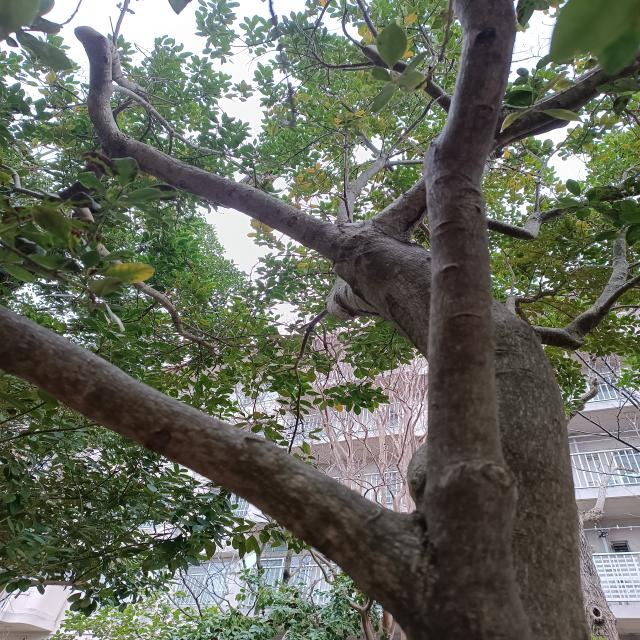Branch: (0, 304, 411, 617), (328, 217, 581, 571), (405, 0, 519, 566), (75, 27, 344, 253), (375, 44, 640, 242)
Twig: (534, 231, 632, 351), (344, 10, 451, 107), (113, 84, 224, 157), (12, 152, 115, 203), (487, 181, 542, 241), (542, 198, 607, 222), (508, 290, 554, 307)
